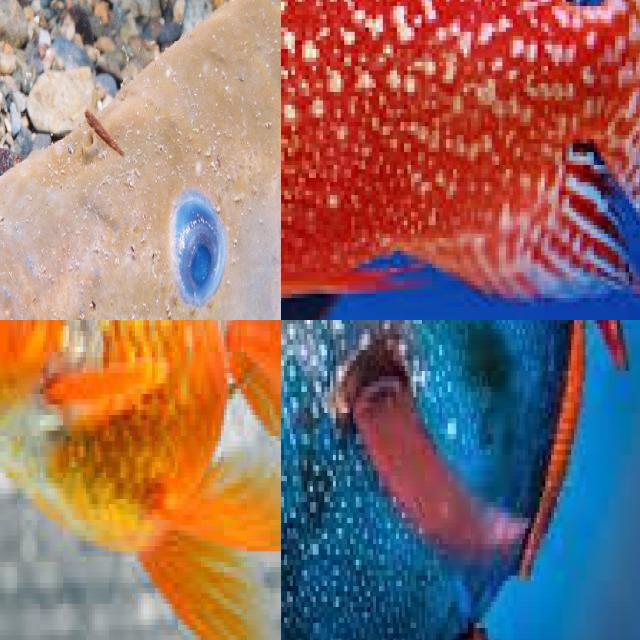fish: (281, 0, 640, 320), (281, 320, 640, 640), (0, 0, 281, 320), (8, 320, 281, 409)
